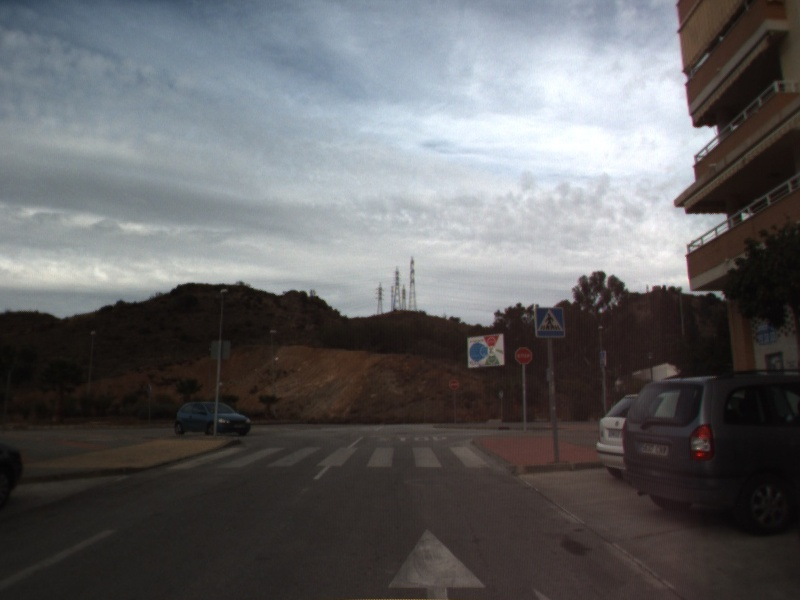STRAIGHT: (384, 523, 490, 600)
